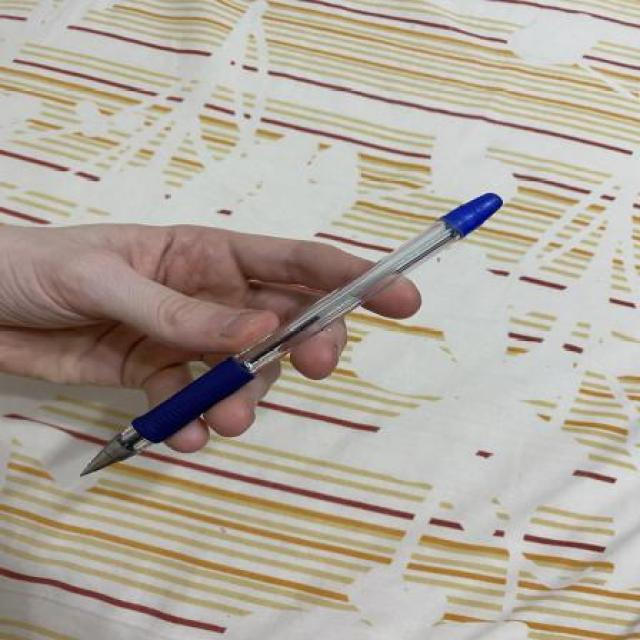pen: (79, 192, 504, 481)
